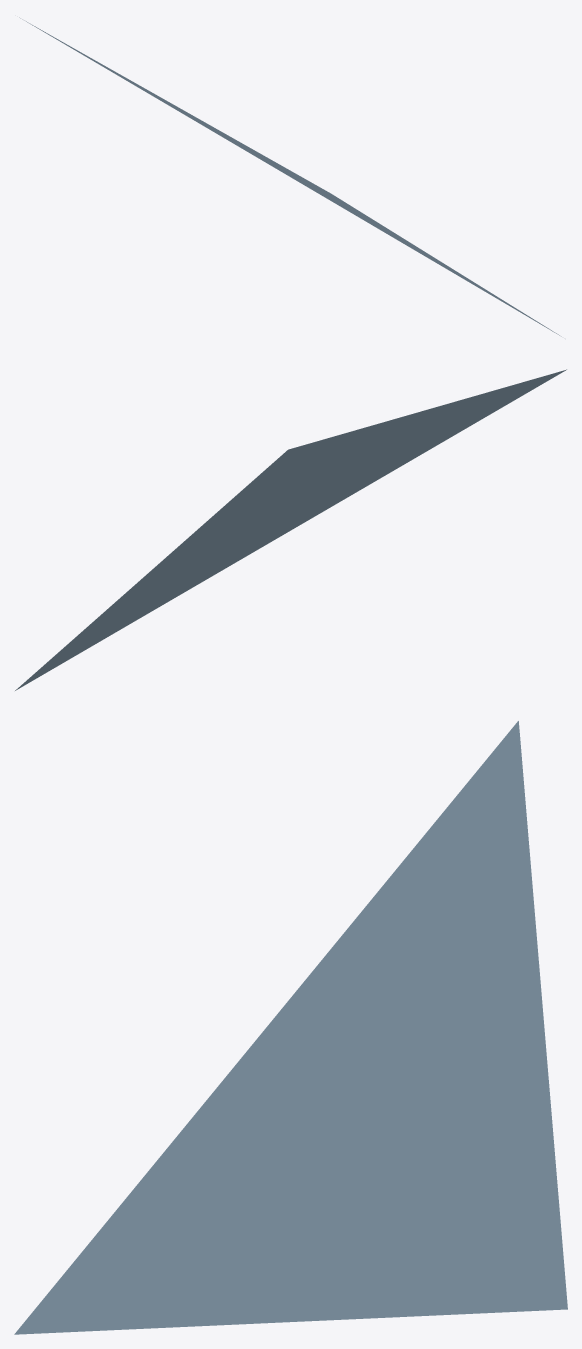
3 renders of one model, top to bottom at view 1: azimuth 30°, elevation 25°; view 2: azimuth 150°, elevation 25°; view 3: azimuth 270°, elevation 25°, orthographic. The views are drawn at different scales.
Size of the model in its own units: 111 by 80.49 by 108.
